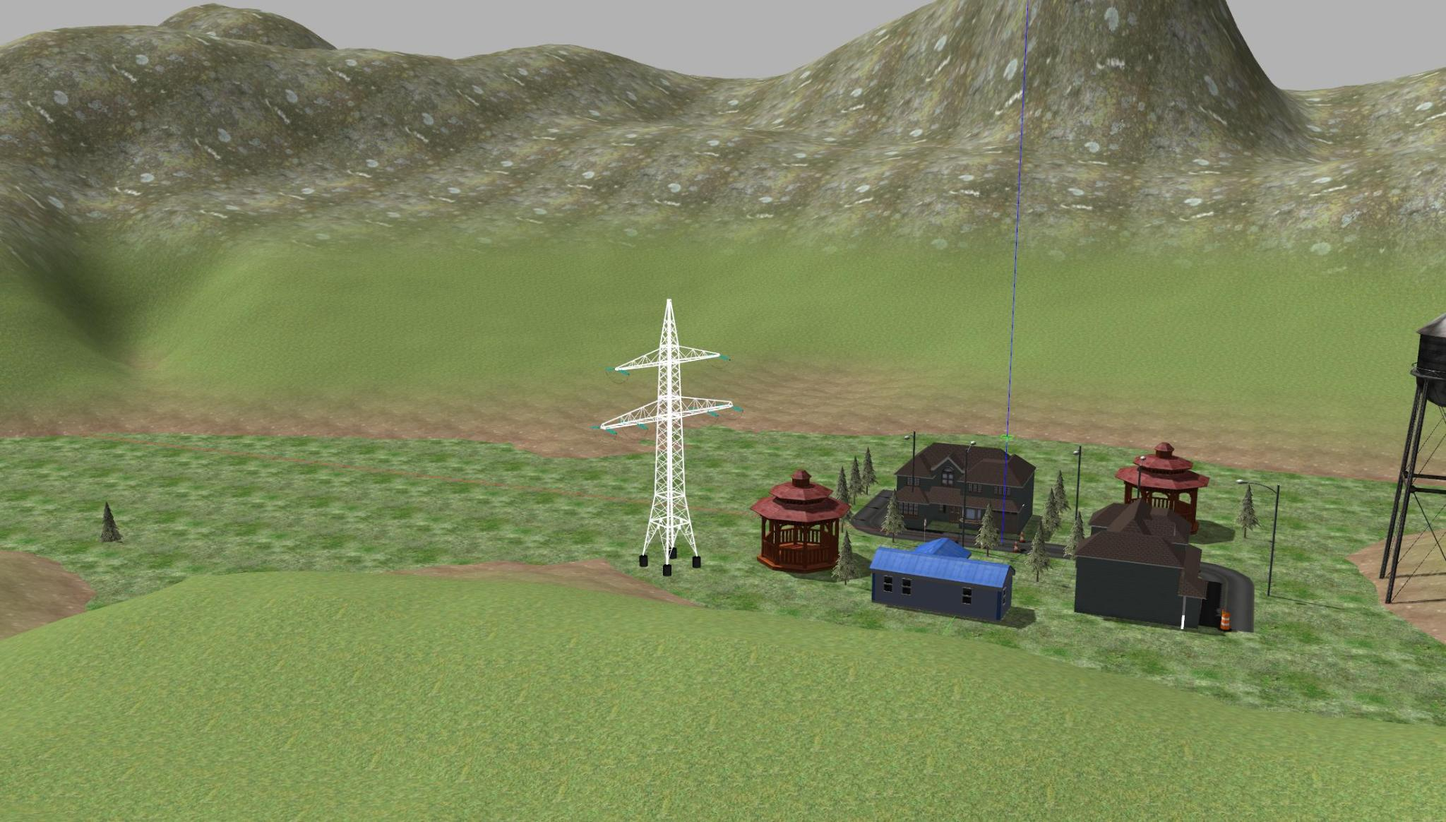tower: (602, 300, 731, 555)
